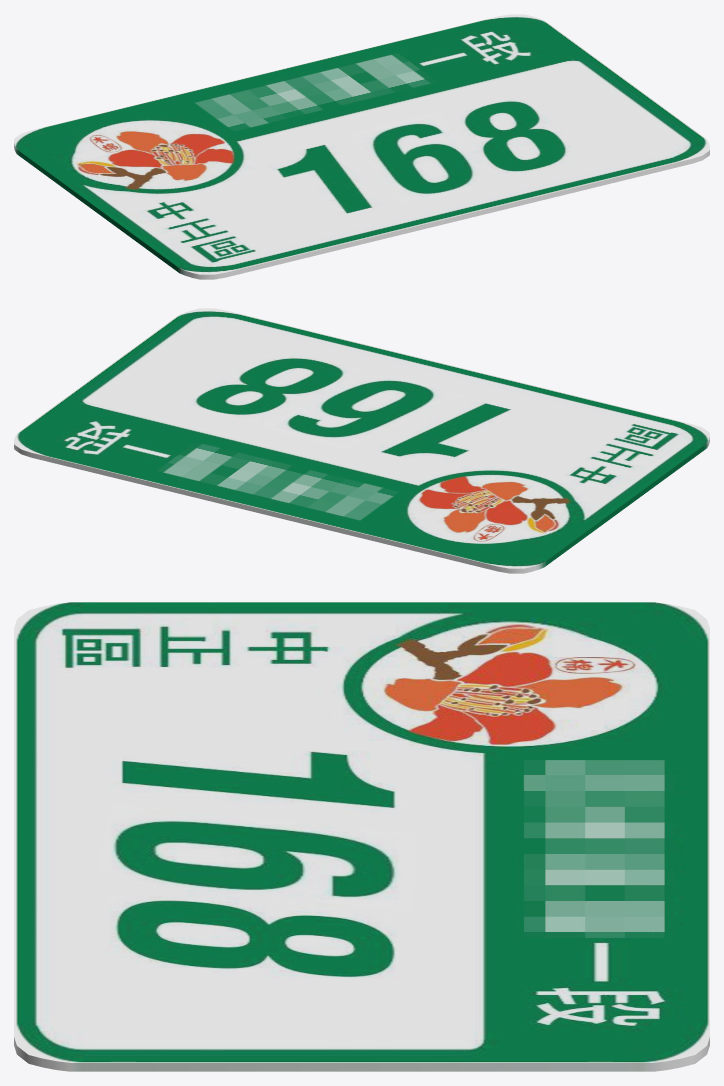
Rendered from house-number.fbx.
3 renders of one model, top to bottom at view 1: azimuth 30°, elevation 25°; view 2: azimuth 150°, elevation 25°; view 3: azimuth 270°, elevation 25°, orthographic. The views are drawn at different scales.
Parts seen in each view (by area): view 1: Plane003; view 2: Plane003; view 3: Plane003.
Part boxes in pixels (x1=…): Plane003: x1=14, y1=14, x2=709, y2=279; Plane003: x1=14, y1=308, x2=709, y2=573; Plane003: x1=14, y1=602, x2=709, y2=1071.
Size of the model in its own units: 47.04 by 0.4221 by 30.03.
